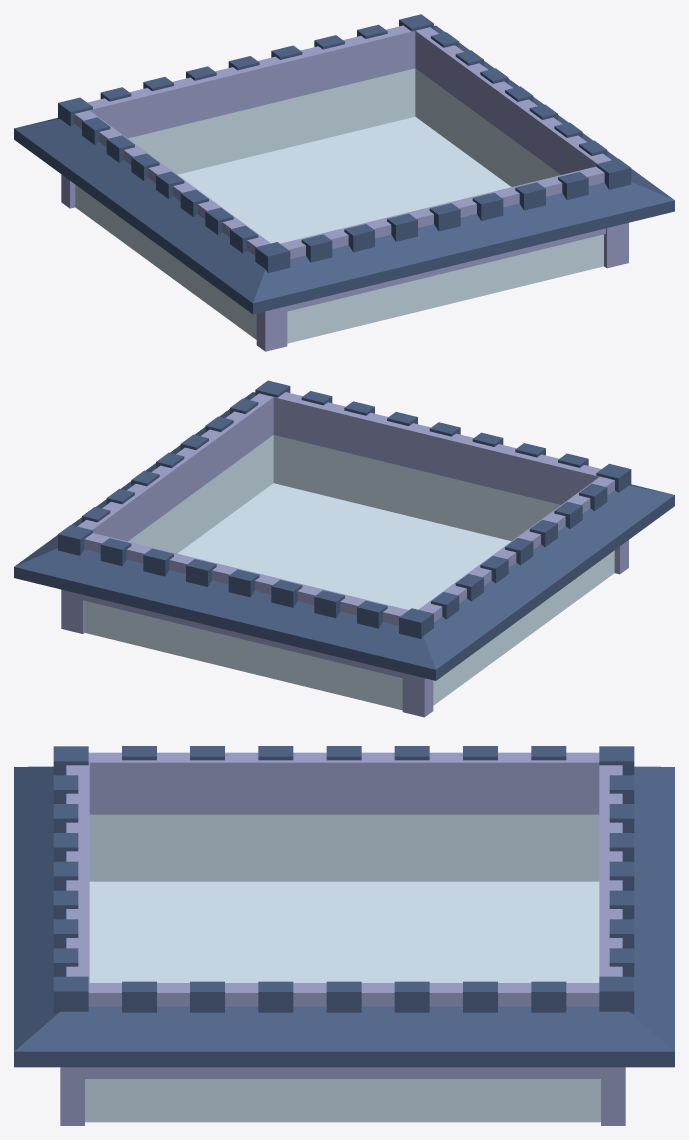
Rendered from Blue Building 3.fbx.
3 renders of one model, top to bottom at view 1: azimuth 30°, elevation 25°; view 2: azimuth 150°, elevation 25°; view 3: azimuth 270°, elevation 25°, orthographic. The views are drawn at different scales.
Visible parts, largest first — view 1: Cube.072; view 2: Cube.072; view 3: Cube.072.
Part boxes in pixels (x1,y1,x2,y2): Cube.072: (14,14,674,351); Cube.072: (14,380,674,717); Cube.072: (14,746,674,1125).
Bounding box in the file's own units: 957 × 210 × 938.
